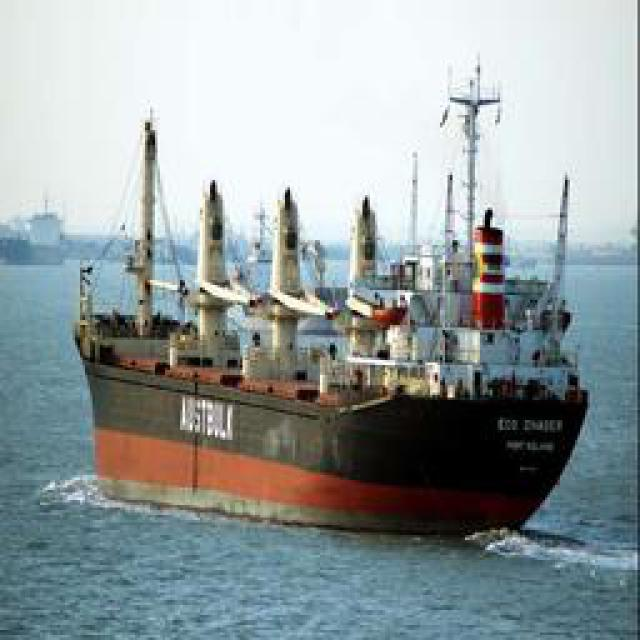Ship: (70, 46, 595, 536)
